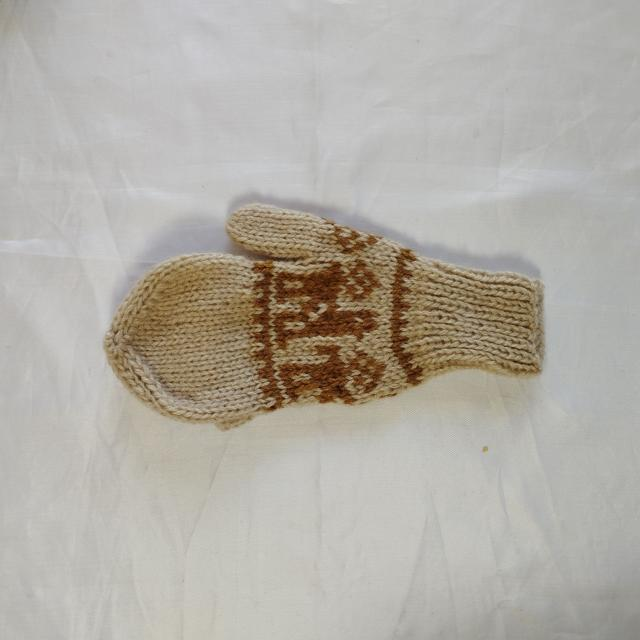Guante: (102, 202, 546, 432)
